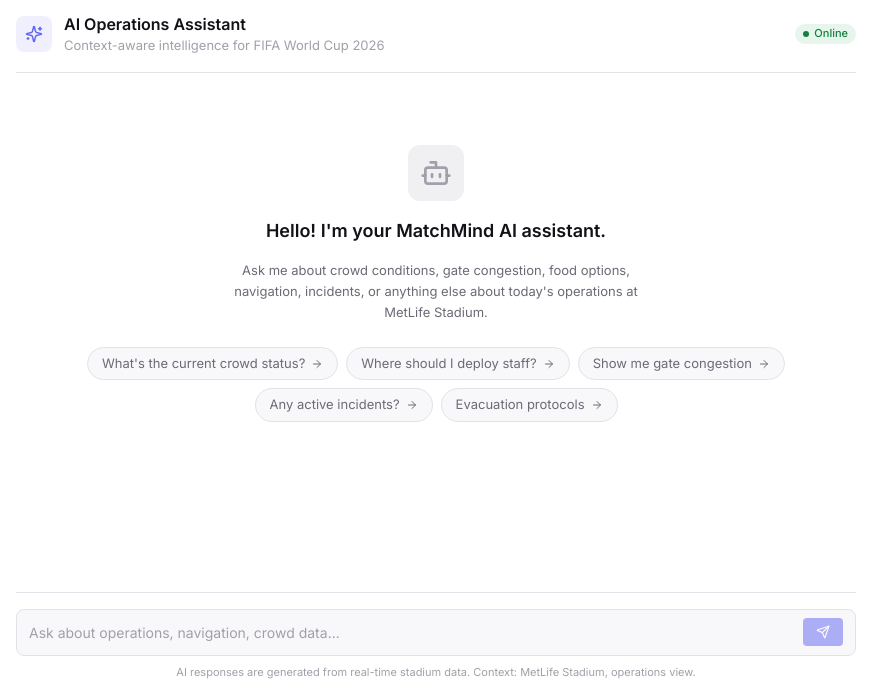
Test: AI Assistant Engine › can submit a message and render a response
# Type a message that triggers the congestion intent
In the field with placeholder "Ask about operations, navigation, crowd data...": (412, 632) [29, 618, 795, 646], type "Is gate C congested?"
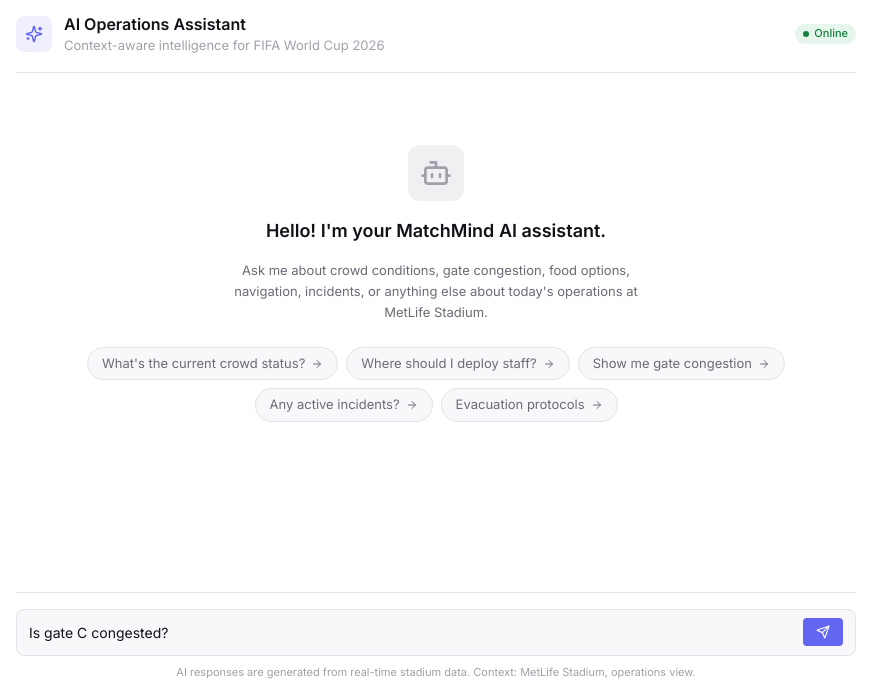
Submit the form from the field with placeholder "Ask about operations, navigation, crowd data...", box [29, 618, 795, 646]
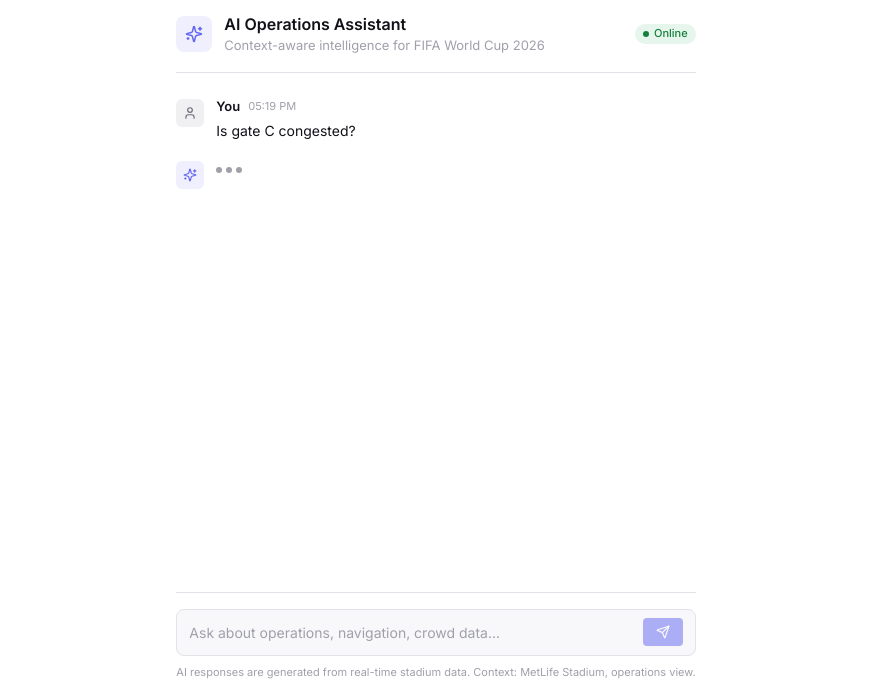
Now the text "Is gate C congested?" is shown, box [216, 122, 356, 139]
